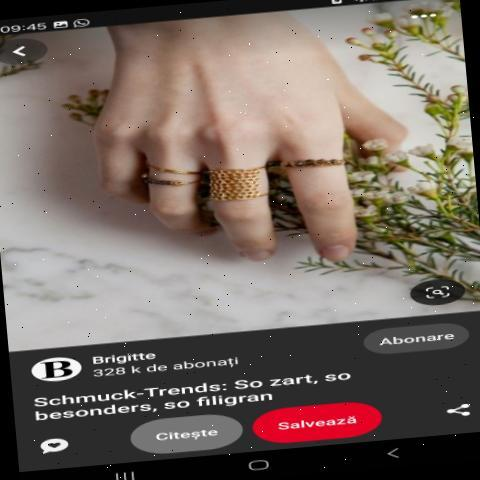Hands: (71, 29, 420, 270)
